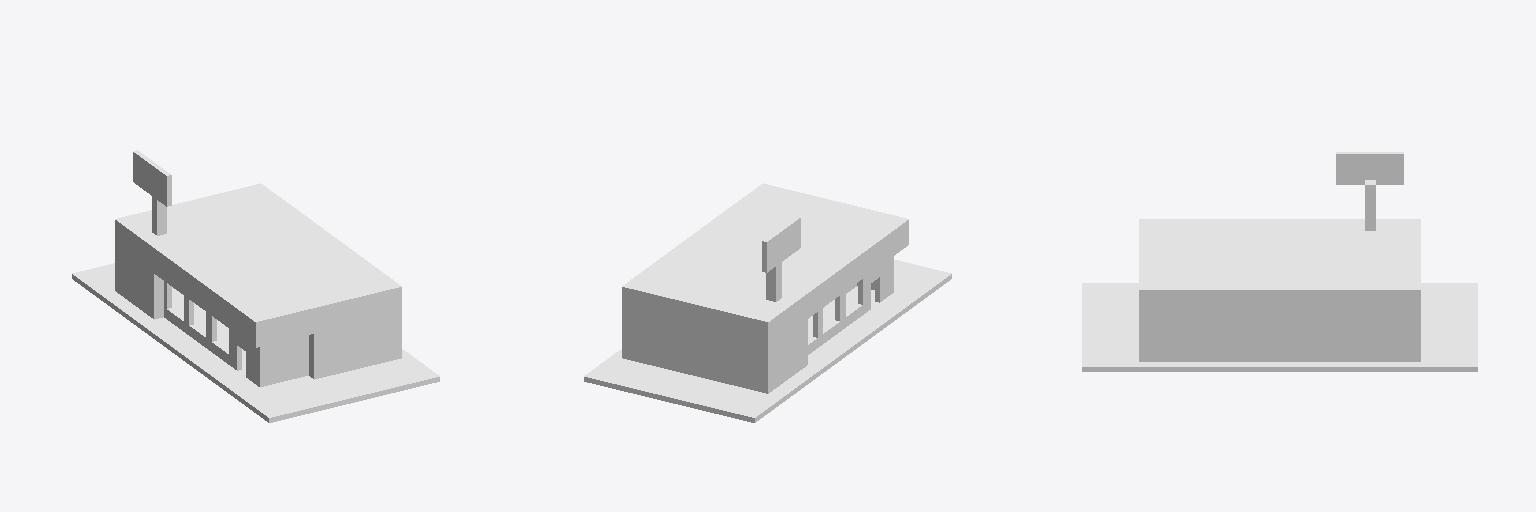
File: konbini.obj
3 renders of one model, left to right at view 1: azimuth 30°, elevation 25°; view 2: azimuth 150°, elevation 25°; view 3: azimuth 270°, elevation 25°, orthographic.
Size of the model in its own units: 35 by 29 by 70.